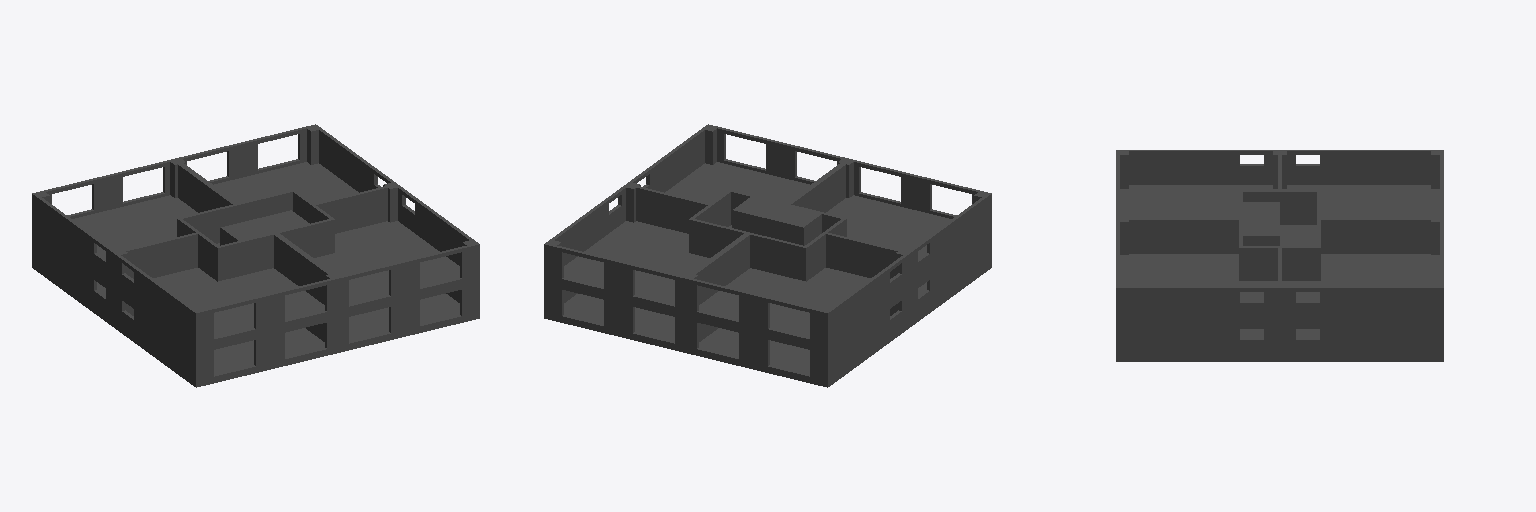
File: Residential.obj
3 renders of one model, left to right at view 1: azimuth 30°, elevation 25°; view 2: azimuth 150°, elevation 25°; view 3: azimuth 270°, elevation 25°, orthographic.
Visible parts, largest first — view 1: Mesh_0.002; view 2: Mesh_0.002; view 3: Mesh_0.002.
Boxes of the visible parts, x1=… form: Mesh_0.002: x1=32, y1=124, x2=479, y2=387; Mesh_0.002: x1=544, y1=124, x2=991, y2=387; Mesh_0.002: x1=1116, y1=150, x2=1443, y2=361.
Size of the model in its own units: 20 by 5 by 20.